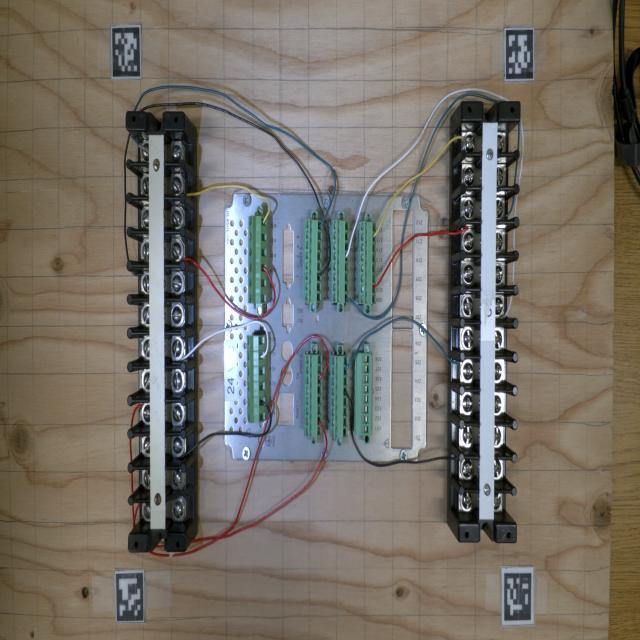Flathead_Block: (127, 112, 186, 551)
Phillips_Block: (460, 102, 520, 542)
Terminal_1: (248, 215, 267, 304), (247, 335, 266, 423)
Terminal_2: (329, 355, 348, 439), (303, 219, 322, 303), (304, 354, 322, 438), (358, 221, 376, 304), (331, 220, 349, 303)
